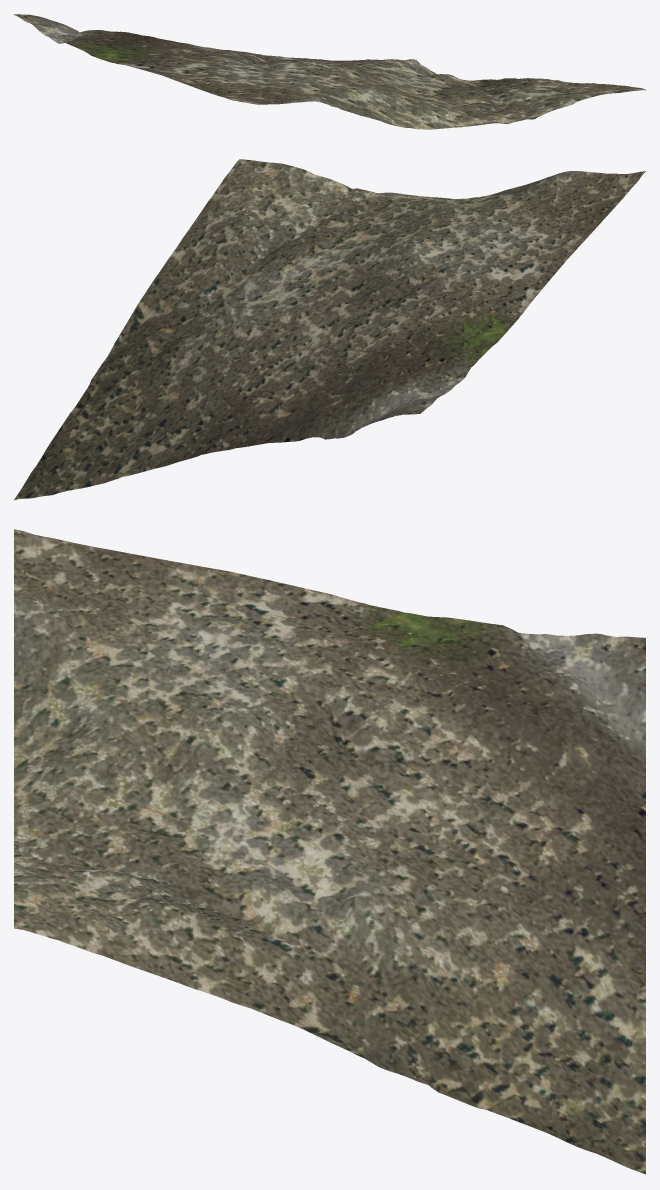
The picture shows the model from 3 angles, top to bottom: view 1: azimuth 30°, elevation 25°; view 2: azimuth 150°, elevation 25°; view 3: azimuth 270°, elevation 25°; orthographic projection. The views are drawn at different scales.
Size of the model in its own units: 500 by 310 by 481.
1 material, 1 textured.
